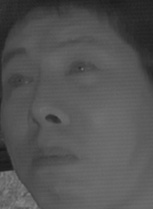eye: (64, 58, 100, 78), (2, 72, 35, 92)
mouth: (26, 140, 78, 174)
